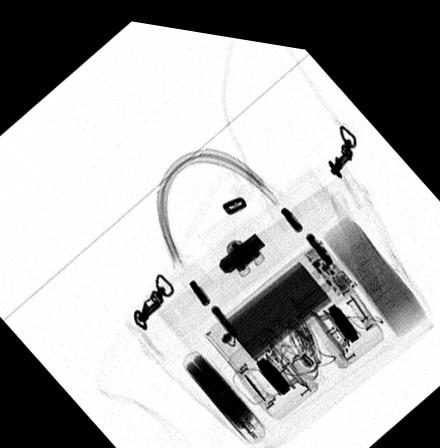Powerbank: (201, 224, 357, 367), (180, 341, 266, 439)
